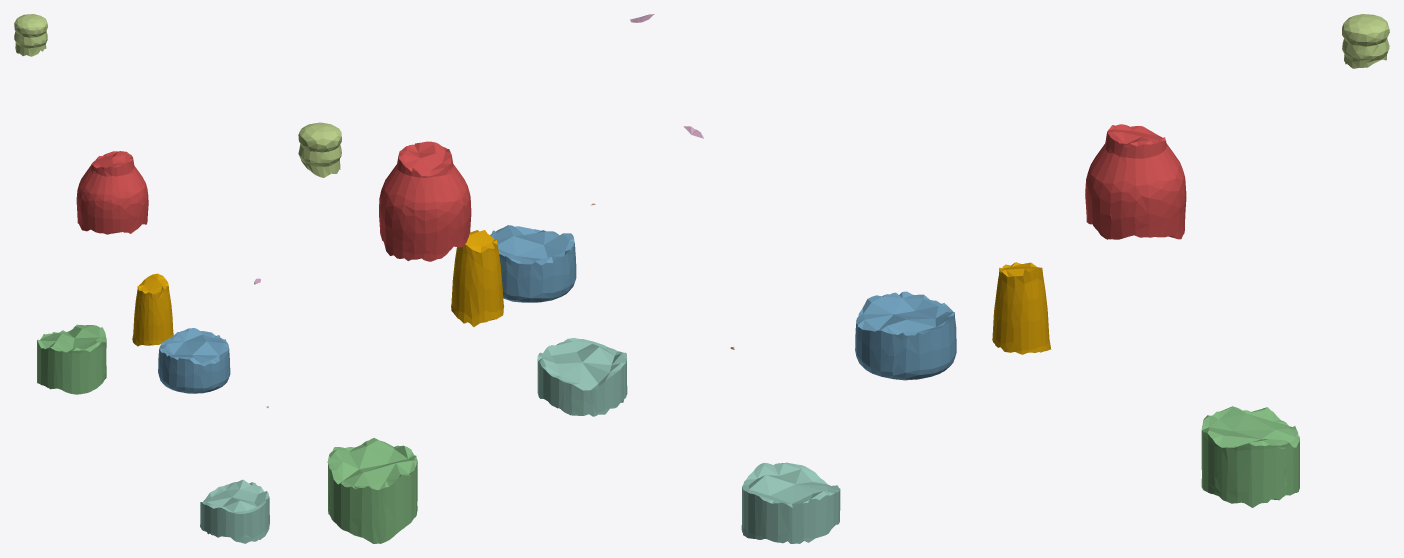
Rendered from fractured_54_8pcs_transformed.glb.
The picture shows the model from 3 angles, left to right: view 1: azimuth 30°, elevation 25°; view 2: azimuth 150°, elevation 25°; view 3: azimuth 270°, elevation 25°; orthographic projection. The views are drawn at different scales.
Visible parts, largest first — view 1: piece_1.obj, piece_3.obj, piece_2.obj, piece_4.obj, piece_0.obj, piece_5.obj; view 2: piece_1.obj, piece_3.obj, piece_4.obj, piece_2.obj, piece_0.obj, piece_5.obj; view 3: piece_1.obj, piece_3.obj, piece_2.obj, piece_4.obj, piece_0.obj, piece_5.obj.
Part boxes in pixels (<box>): piece_1.obj: <box>76,151,148,234</box>; piece_3.obj: <box>37,324,106,394</box>; piece_2.obj: <box>158,328,230,393</box>; piece_4.obj: <box>200,479,269,543</box>; piece_0.obj: <box>132,273,173,346</box>; piece_5.obj: <box>14,14,47,56</box>; piece_1.obj: <box>379,141,471,261</box>; piece_3.obj: <box>327,438,417,543</box>; piece_4.obj: <box>537,338,627,416</box>; piece_2.obj: <box>490,225,576,302</box>; piece_0.obj: <box>451,230,504,326</box>; piece_5.obj: <box>298,122,341,177</box>; piece_1.obj: <box>1085,124,1186,239</box>; piece_3.obj: <box>1201,406,1299,507</box>; piece_2.obj: <box>855,291,956,380</box>; piece_4.obj: <box>741,462,840,543</box>; piece_0.obj: <box>992,262,1051,354</box>; piece_5.obj: <box>1342,14,1389,68</box>.
Size of the model in its own units: 0.2656 by 1.48 by 1.84.
